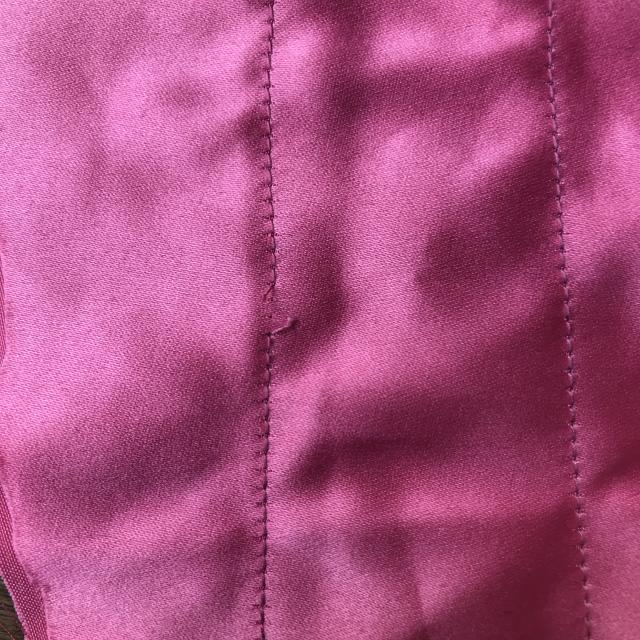broken: (239, 271, 319, 350)
